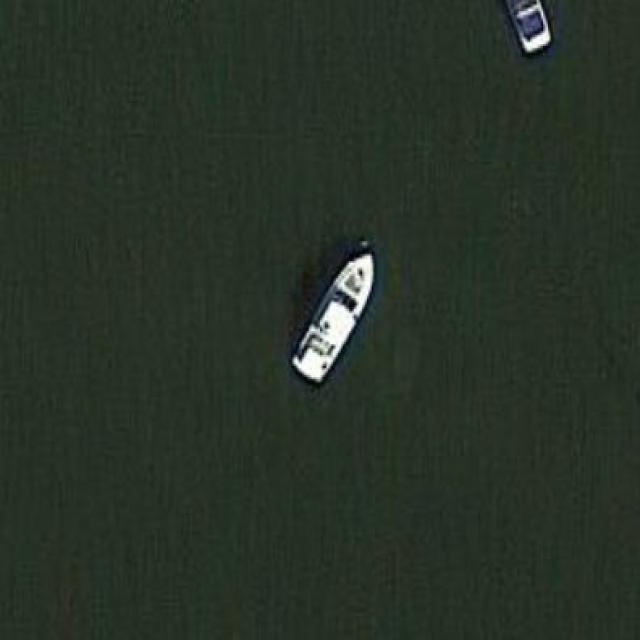ship: (286, 245, 376, 386)
